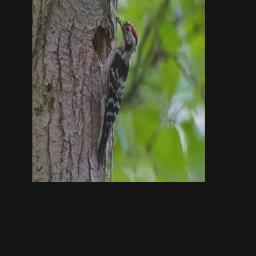Woodpecker: (92, 15, 137, 168)
